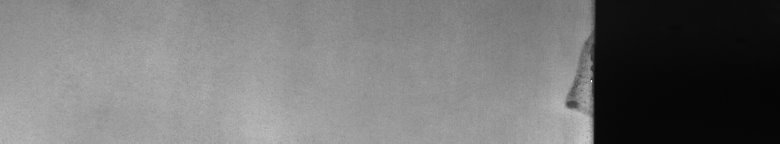hb: (557, 45, 584, 119)
